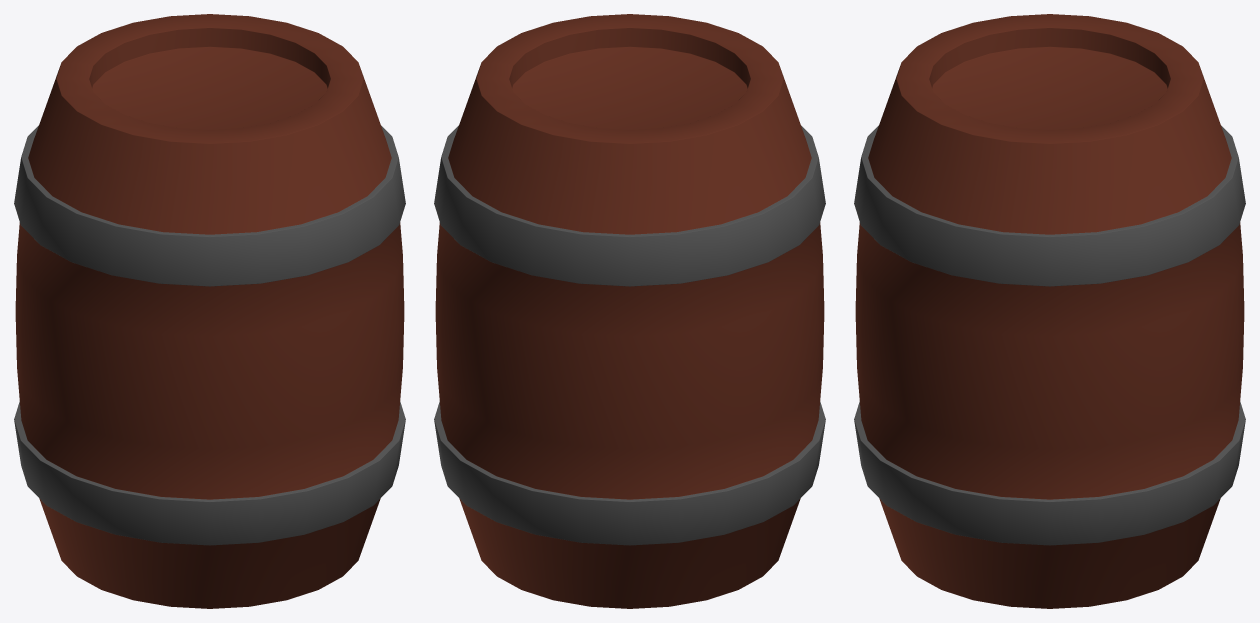
Rendered from Barrel.gltf.
3 renders of one model, left to right at view 1: azimuth 30°, elevation 25°; view 2: azimuth 150°, elevation 25°; view 3: azimuth 270°, elevation 25°, orthographic.
Parts seen in each view (by area): view 1: Barrel; view 2: Barrel; view 3: Barrel.
Part boxes in pixels (x1,y1,x2,y2): Barrel: (14,14,405,608); Barrel: (434,14,825,608); Barrel: (854,14,1245,608).
Size of the model in its own units: 2.55 by 3.34 by 2.55.
